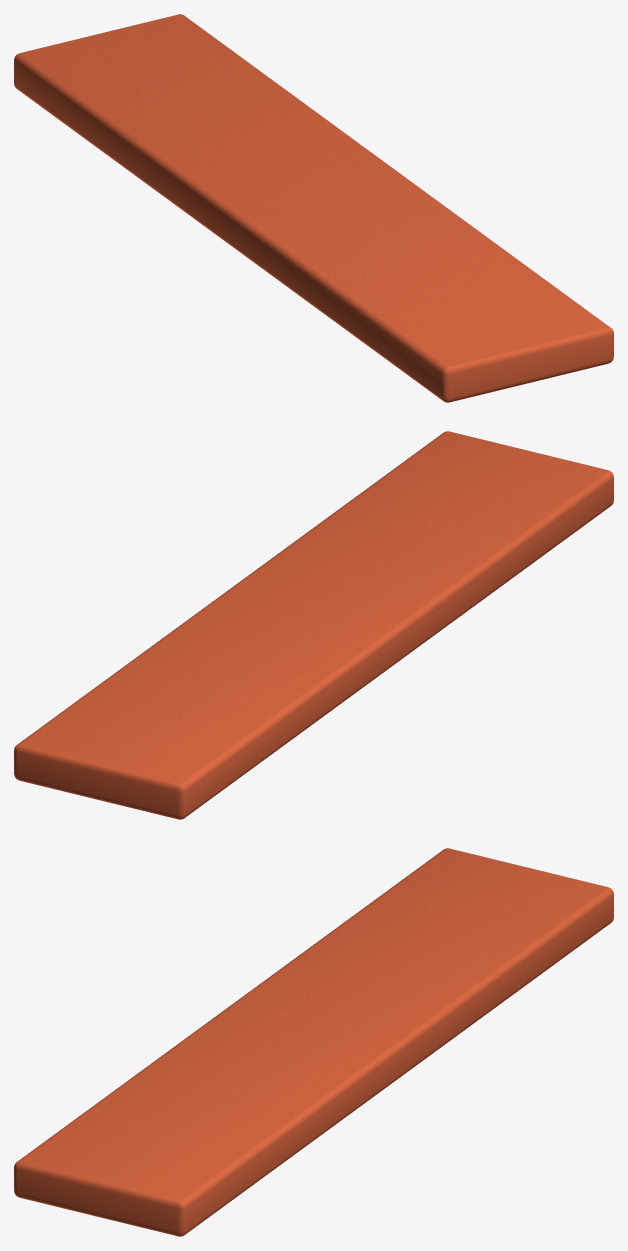
The model's file is FloatingShelf.fbx.
The picture shows the model from 3 angles, top to bottom: view 1: azimuth 30°, elevation 25°; view 2: azimuth 150°, elevation 25°; view 3: azimuth 330°, elevation 25°; orthographic projection.
Visible parts, largest first — view 1: FloatingShelf_Baked; view 2: FloatingShelf_Baked; view 3: FloatingShelf_Baked.
Part boxes in pixels (left/top/right/bottom): FloatingShelf_Baked: left=14, top=14, right=613, bottom=402; FloatingShelf_Baked: left=14, top=431, right=613, bottom=819; FloatingShelf_Baked: left=14, top=848, right=613, bottom=1236.
Bounding box in the file's own units: 50 × 10 × 219.
1 material, 1 textured.
